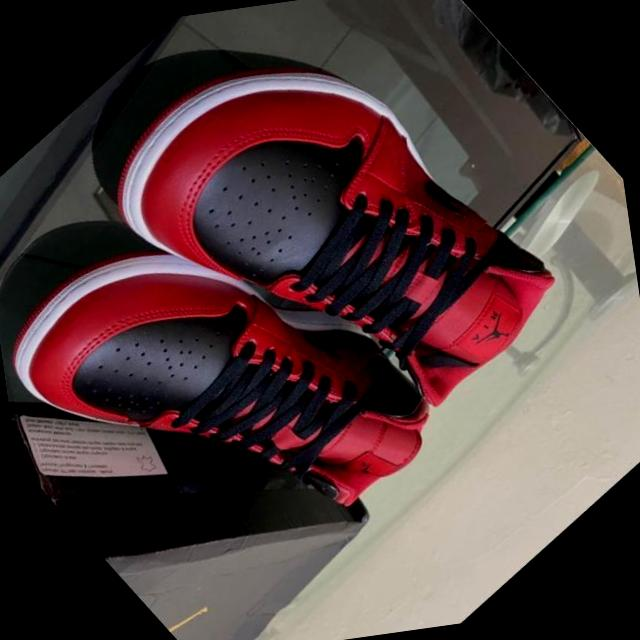nike_original_jordan: (64, 0, 596, 515), (0, 114, 513, 640)
